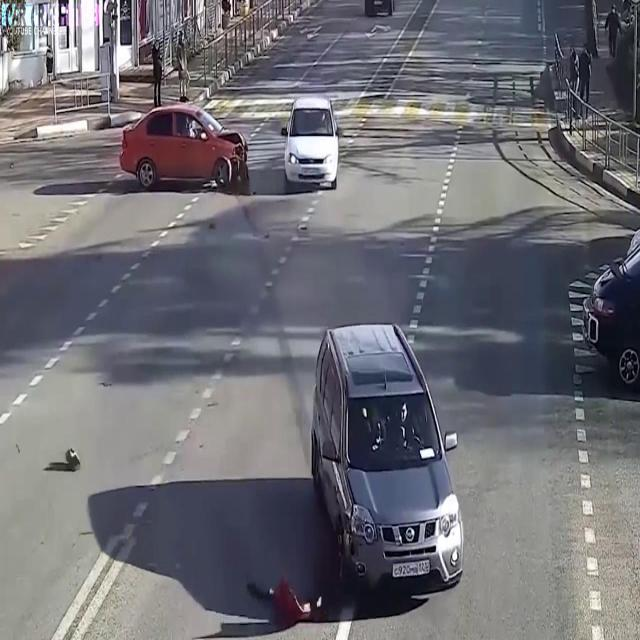accident: (244, 297, 474, 640), (114, 91, 267, 208)
